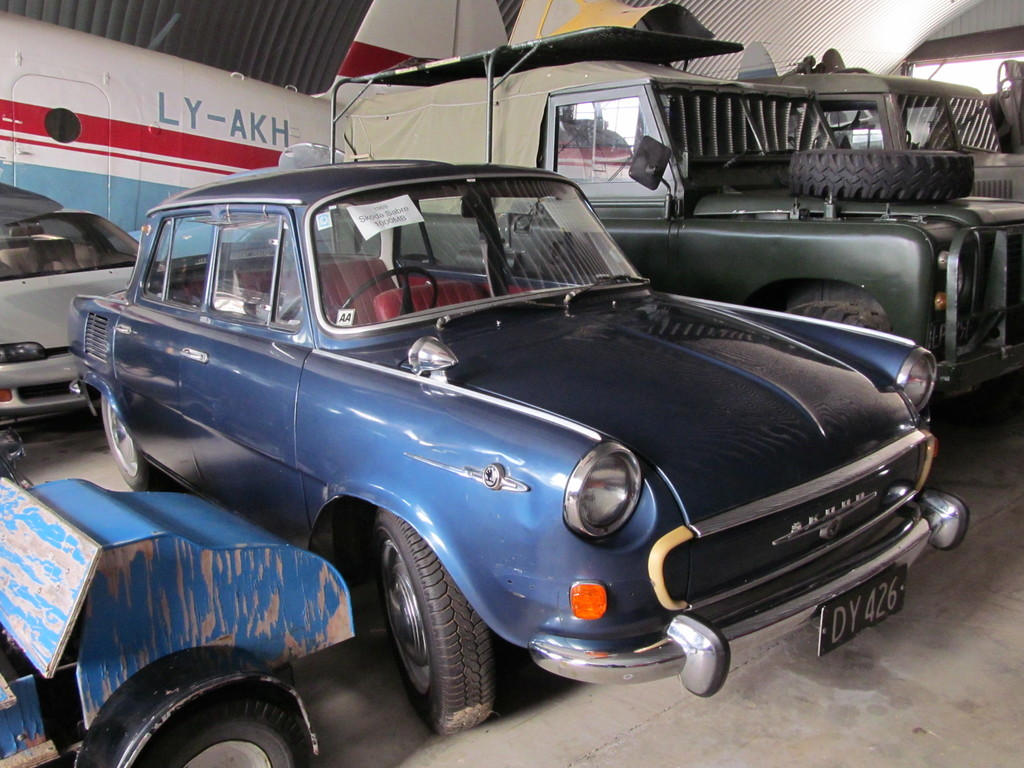Car: (323, 26, 1023, 430), (0, 176, 203, 448), (739, 63, 1023, 209)
